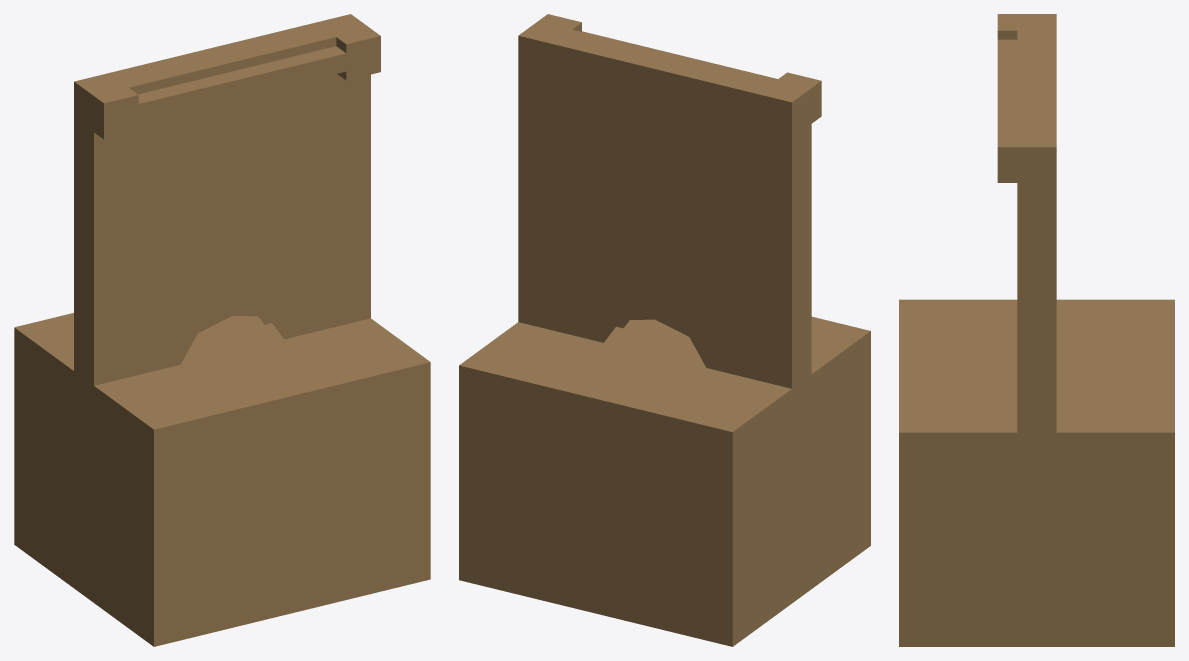
The model's file is bank_booth.obj.
3 renders of one model, left to right at view 1: azimuth 30°, elevation 25°; view 2: azimuth 150°, elevation 25°; view 3: azimuth 270°, elevation 25°, orthographic.
Visible parts, largest first — view 1: Object Bank booth 2026-10-08_15-23-28; view 2: Object Bank booth 2026-10-08_15-23-28; view 3: Object Bank booth 2026-10-08_15-23-28.
Part boxes in pixels (left/top/right/bottom): Object Bank booth 2026-10-08_15-23-28: left=14, top=14, right=430, bottom=646; Object Bank booth 2026-10-08_15-23-28: left=459, top=14, right=870, bottom=646; Object Bank booth 2026-10-08_15-23-28: left=899, top=14, right=1174, bottom=646.
Size of the model in its own units: 128 by 224 by 112.
